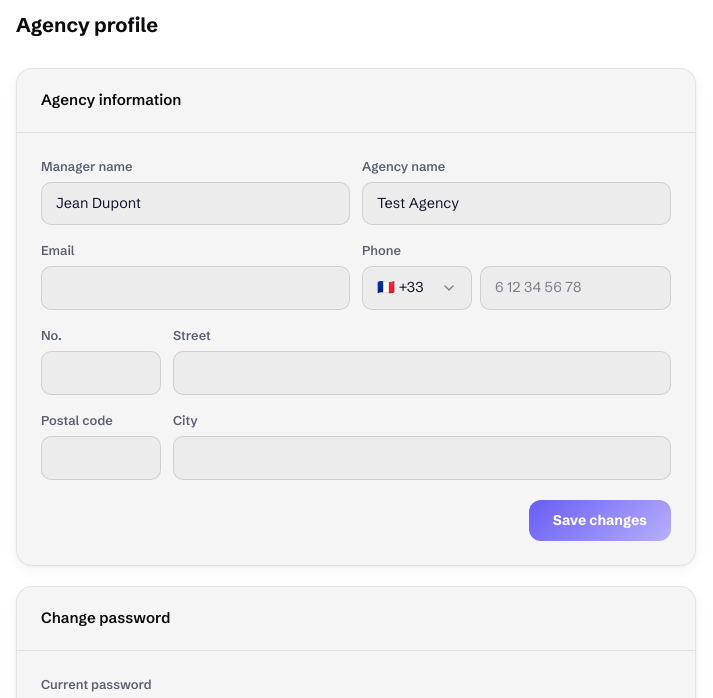
Test: ProfilePage › shows error on agency info save failure
Type "agency@test.com" into the field labelled "Email". click: (196, 288)
box: x1=41 y1=266 x2=350 y2=310
Type "+33600000000" into the field labelled "Phone". click: (576, 288)
box: x1=480 y1=266 x2=671 y2=310
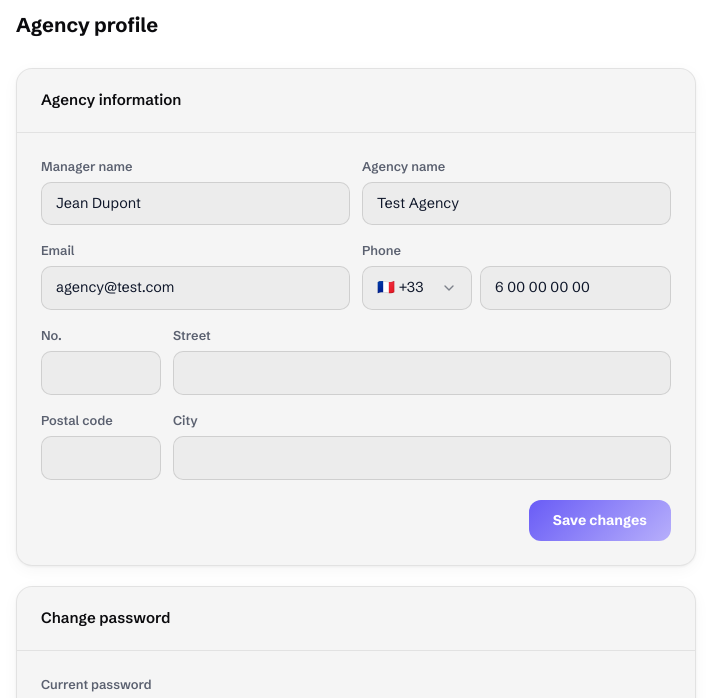
Type "12" into the field labelled "No.". click: (101, 373)
box: x1=41 y1=351 x2=161 y2=395
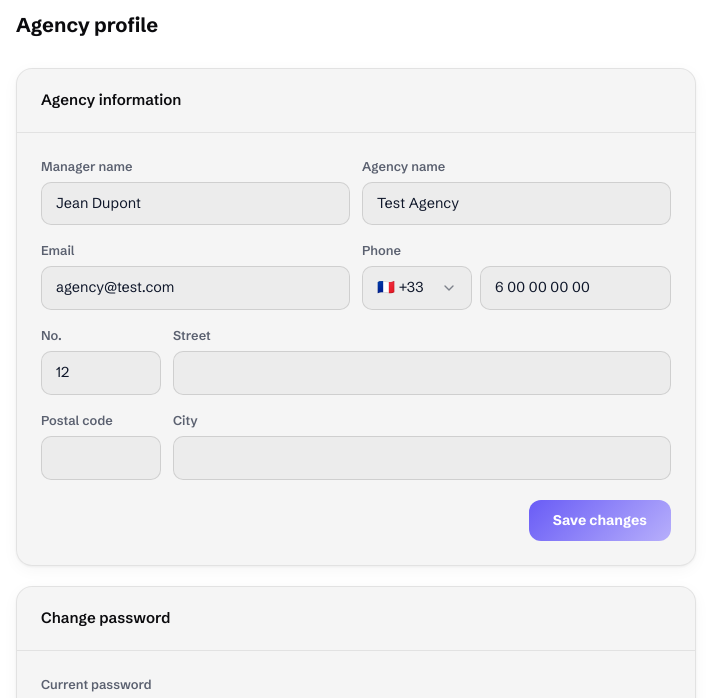
Type "Rue de la Paix" into the field labelled "Street". click: (422, 373)
box: x1=173 y1=351 x2=671 y2=395
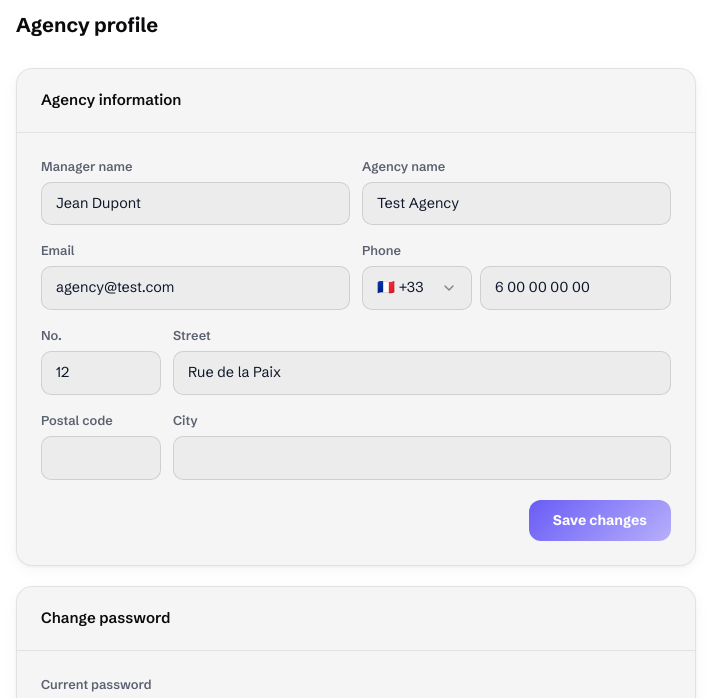
Type "75001" into the field labelled "Postal code". click: (101, 458)
box: x1=41 y1=436 x2=161 y2=480
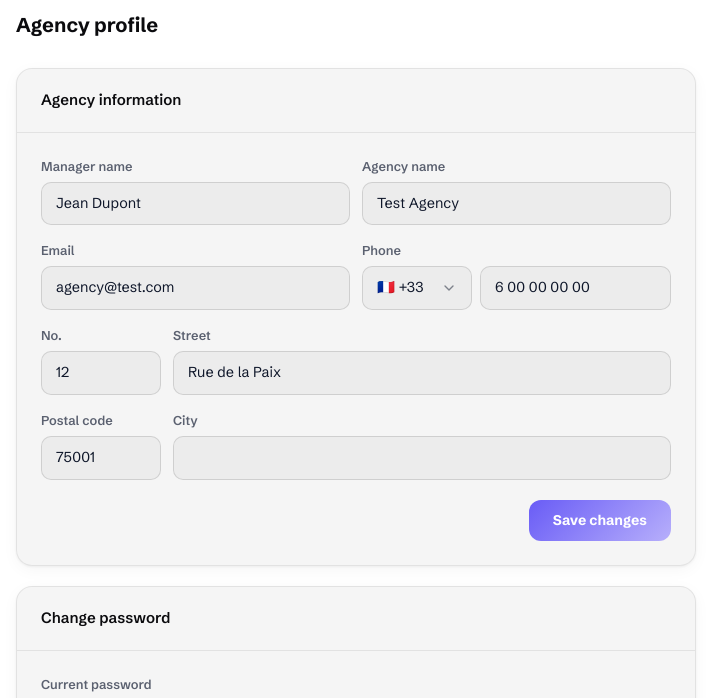
Type "Paris" into the field labelled "City". click: (422, 458)
box: x1=173 y1=436 x2=671 y2=480
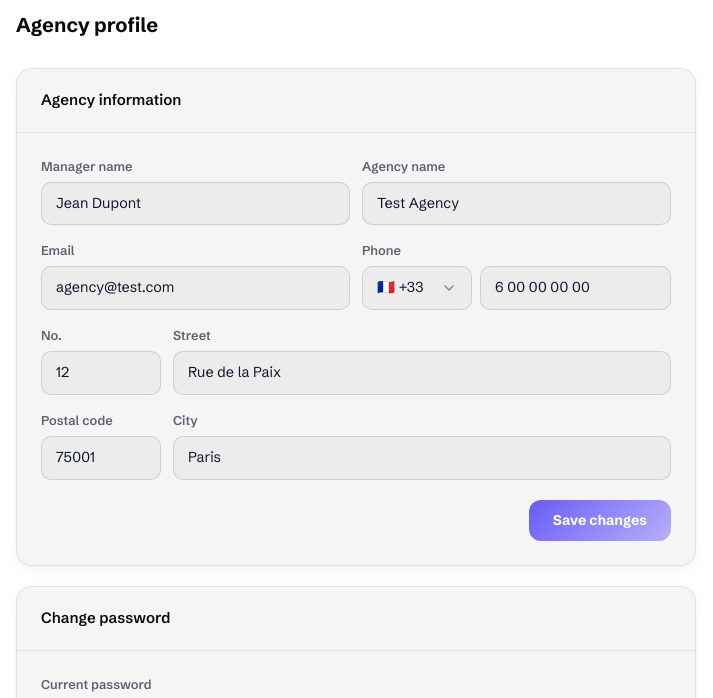
Click the button "Save changes". click: (600, 520)
box: x1=529 y1=500 x2=671 y2=541
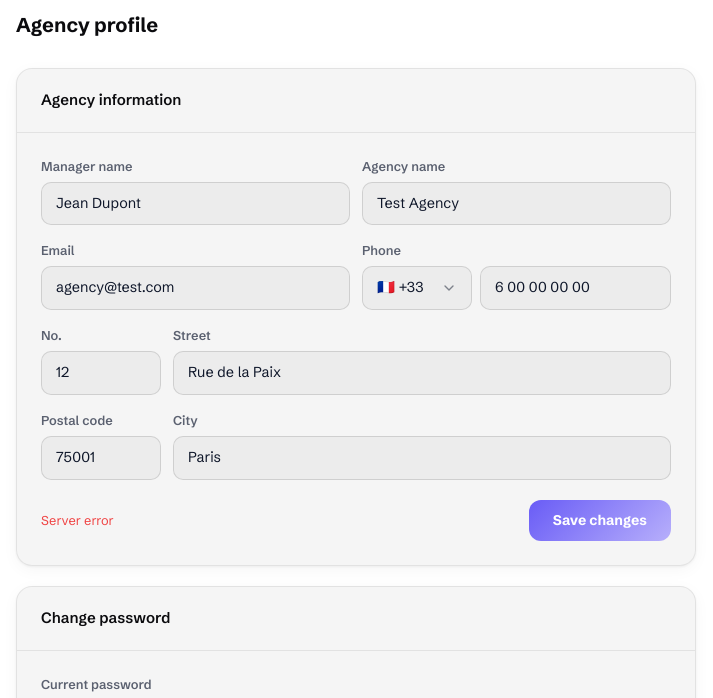
Check: the text "Server error" is shown, box x1=41 y1=511 x2=114 y2=530
